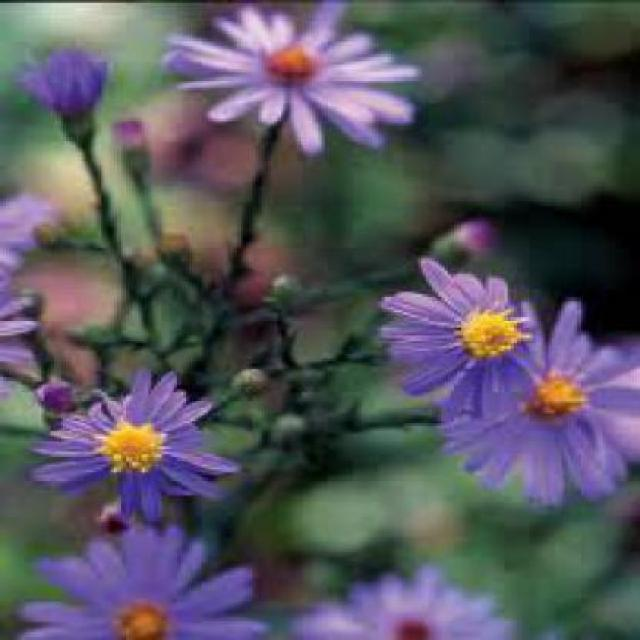Flower: (429, 299, 638, 512), (161, 2, 422, 158), (32, 369, 236, 522), (19, 524, 272, 638), (375, 256, 542, 416), (91, 418, 167, 475), (458, 305, 536, 359), (533, 372, 590, 416), (116, 601, 170, 638), (265, 47, 322, 78)
